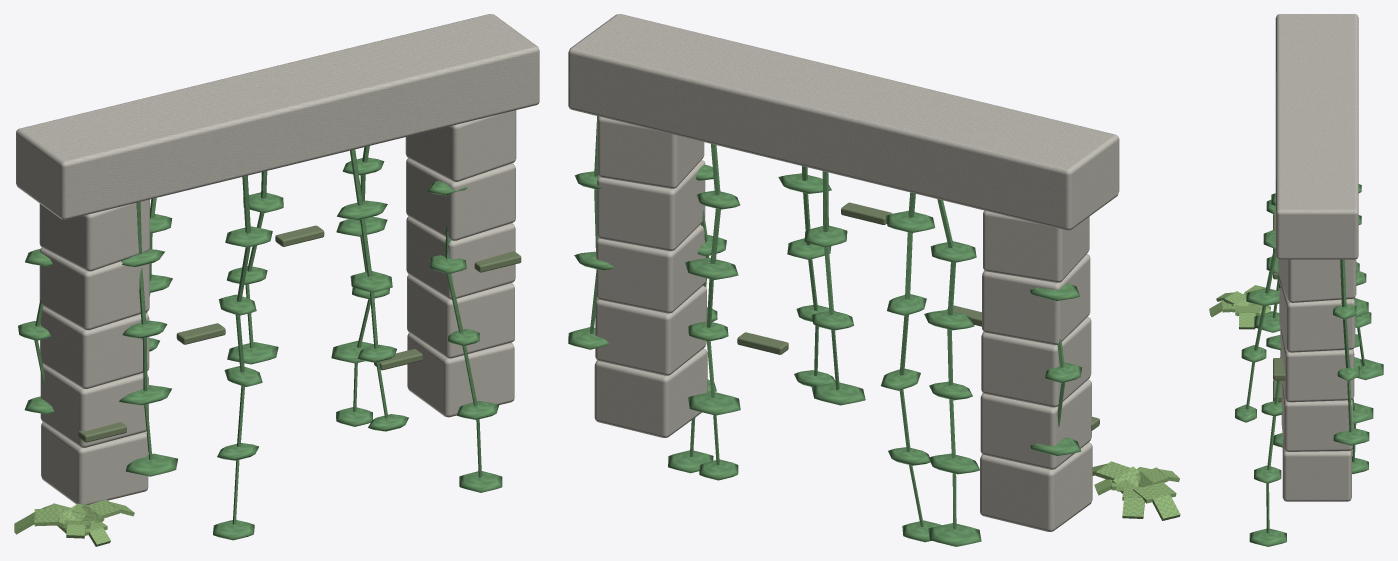
Rendered from jungle-temple-and-stone-city-vine-curtain-d3bcbabf__36139.glb.
3 renders of one model, left to right at view 1: azimuth 30°, elevation 25°; view 2: azimuth 150°, elevation 25°; view 3: azimuth 270°, elevation 25°, orthographic. The views are drawn at different scales.
Parts seen in each view (by area): view 1: vine-curtain; view 2: vine-curtain; view 3: vine-curtain.
Boxes of the visible parts, <box> form: vine-curtain: <box>14,14,539,546</box>; vine-curtain: <box>568,14,1180,546</box>; vine-curtain: <box>1209,14,1383,546</box>.
Bounding box in the file's own units: 3.79 × 2.86 × 1.26.
Materials: 4 (4 with a texture image).
